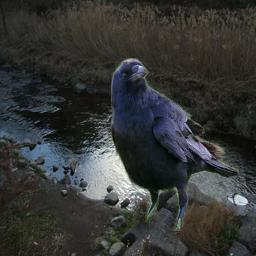Crow: (111, 58, 239, 231)
